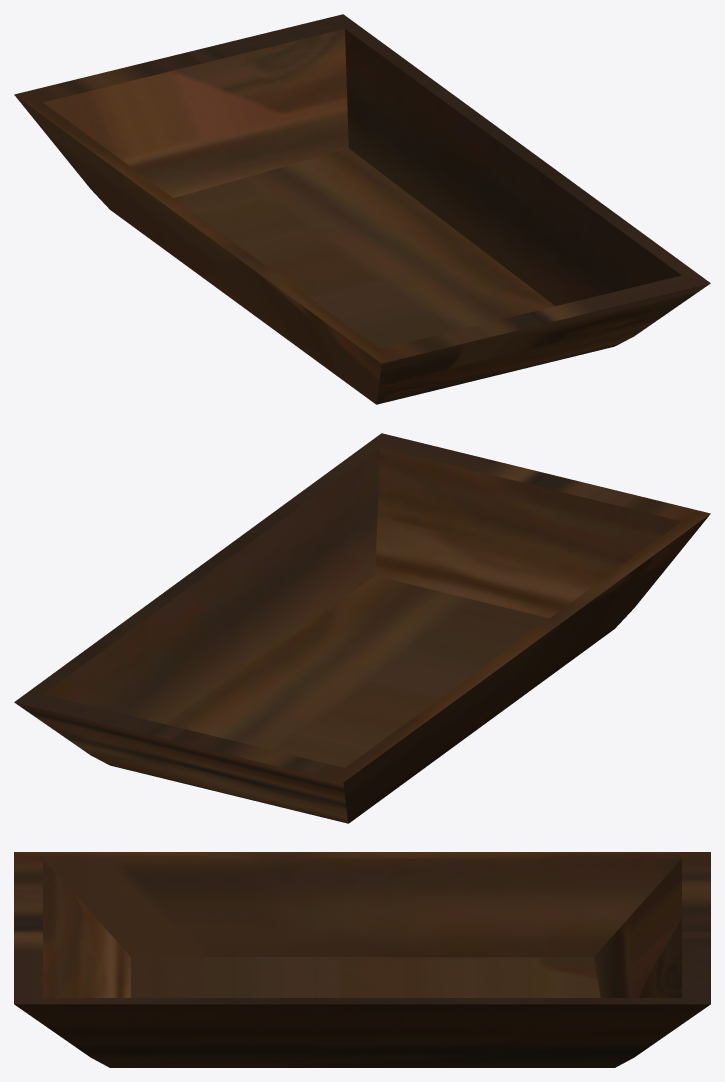
The model's file is Basket_2.fbx.
The picture shows the model from 3 angles, top to bottom: view 1: azimuth 30°, elevation 25°; view 2: azimuth 150°, elevation 25°; view 3: azimuth 270°, elevation 25°; orthographic projection. The views are drawn at different scales.
Visible parts, largest first — view 1: Basket_2; view 2: Basket_2; view 3: Basket_2.
Boxes of the visible parts, x1=… form: Basket_2: x1=14, y1=14, x2=710, y2=404; Basket_2: x1=14, y1=433, x2=710, y2=823; Basket_2: x1=14, y1=852, x2=710, y2=1067.
Size of the model in its own units: 3.09 by 0.7999 by 5.97.
Materials: 1 (1 with a texture image).
